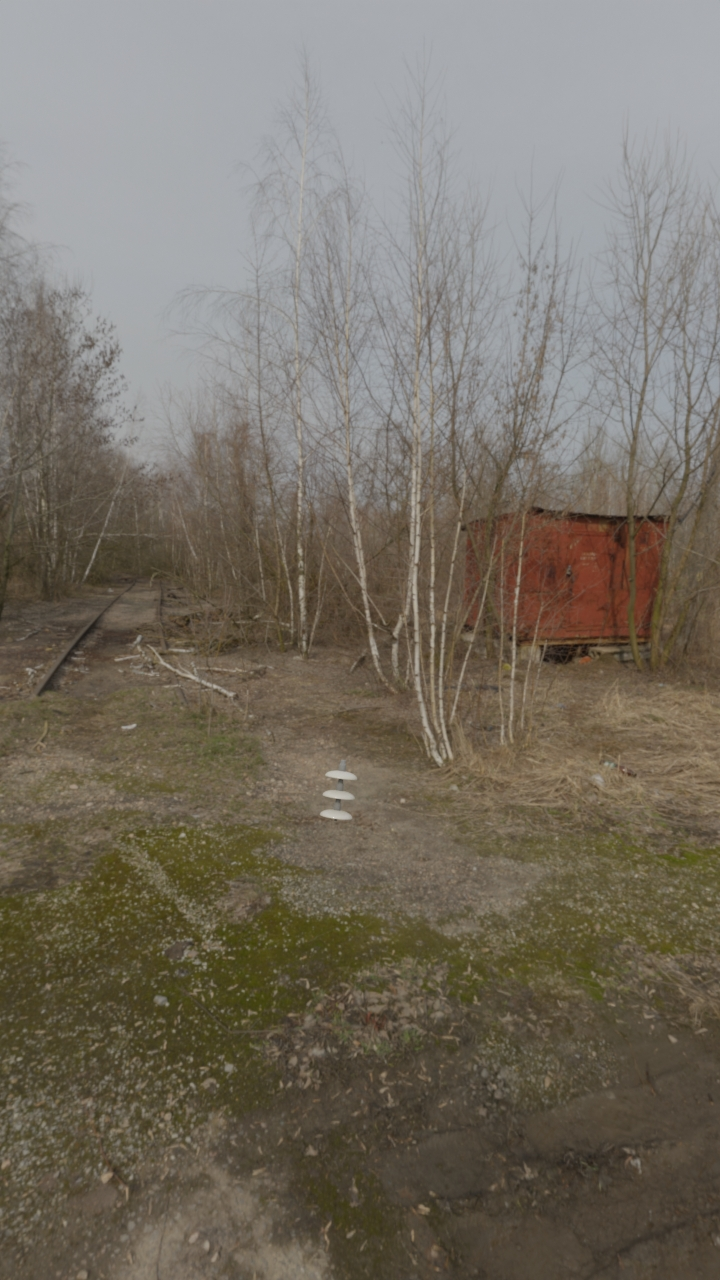ceramicinsulators: (321, 759, 356, 822)
